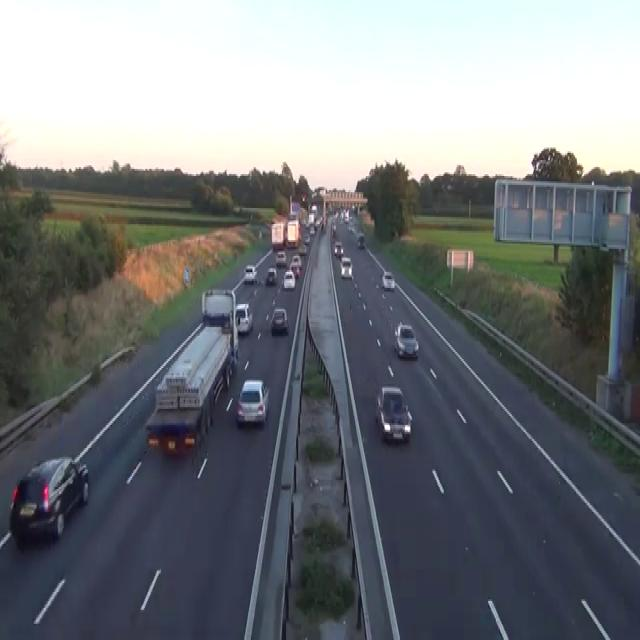Car: (9, 455, 89, 542), (375, 386, 412, 442), (236, 379, 270, 425), (201, 288, 235, 327), (394, 322, 418, 359), (235, 302, 252, 332), (270, 308, 288, 334), (340, 256, 353, 279), (289, 255, 302, 278), (282, 268, 295, 290), (381, 270, 394, 290), (244, 265, 257, 283), (275, 249, 286, 267), (266, 266, 277, 284), (333, 240, 343, 258), (291, 254, 301, 267), (357, 233, 365, 247), (315, 215, 323, 228), (298, 244, 306, 254), (343, 210, 349, 222), (331, 220, 336, 234), (309, 224, 315, 235), (347, 224, 354, 233), (302, 218, 308, 228), (314, 217, 320, 227), (300, 194, 307, 202), (304, 234, 310, 243)
Truck: (145, 288, 238, 457), (271, 220, 285, 250), (286, 219, 300, 247)
